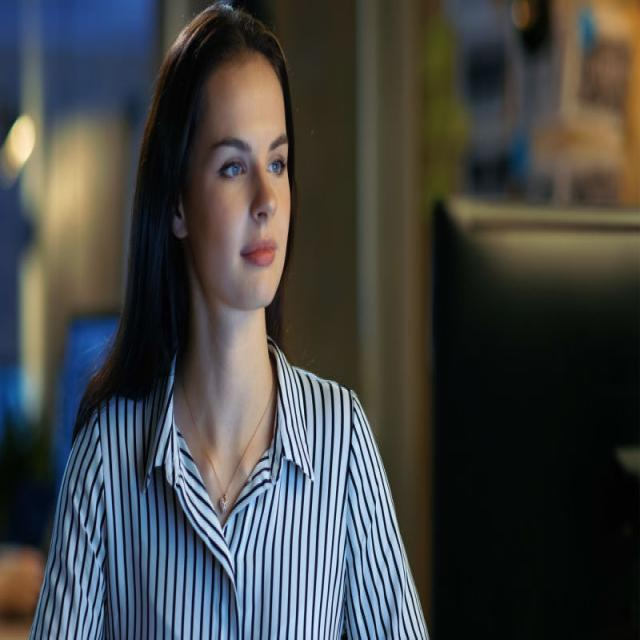mobile_phonerotation: (28, 3, 430, 637)
